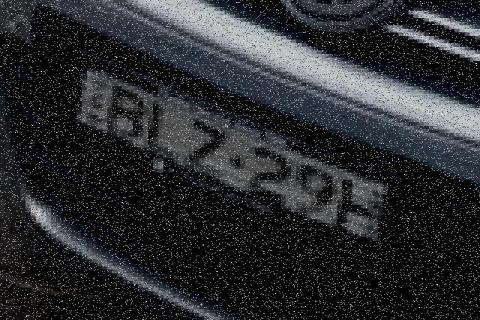LicensePlate: (62, 50, 414, 260)
